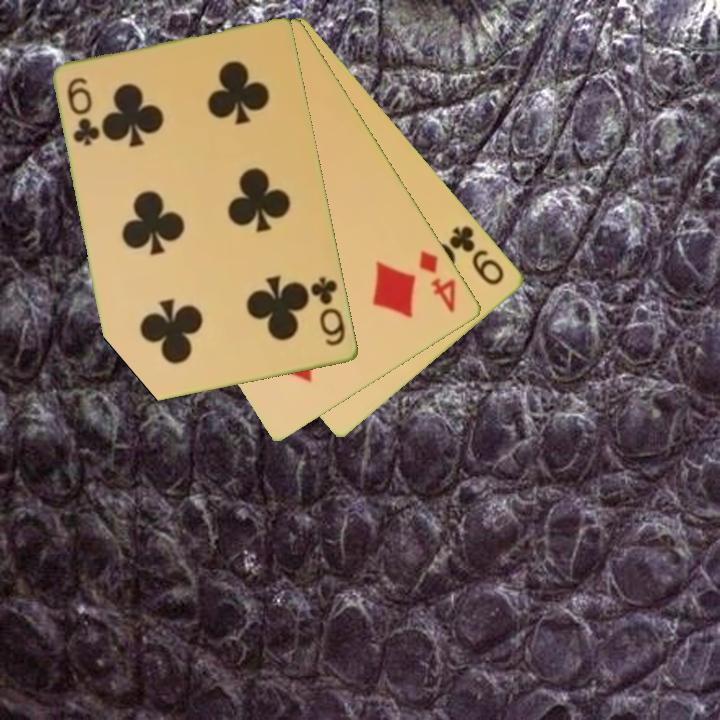4d: (415, 247, 460, 316)
6c: (307, 273, 349, 350), (64, 74, 102, 150)
9c: (446, 222, 508, 289)
